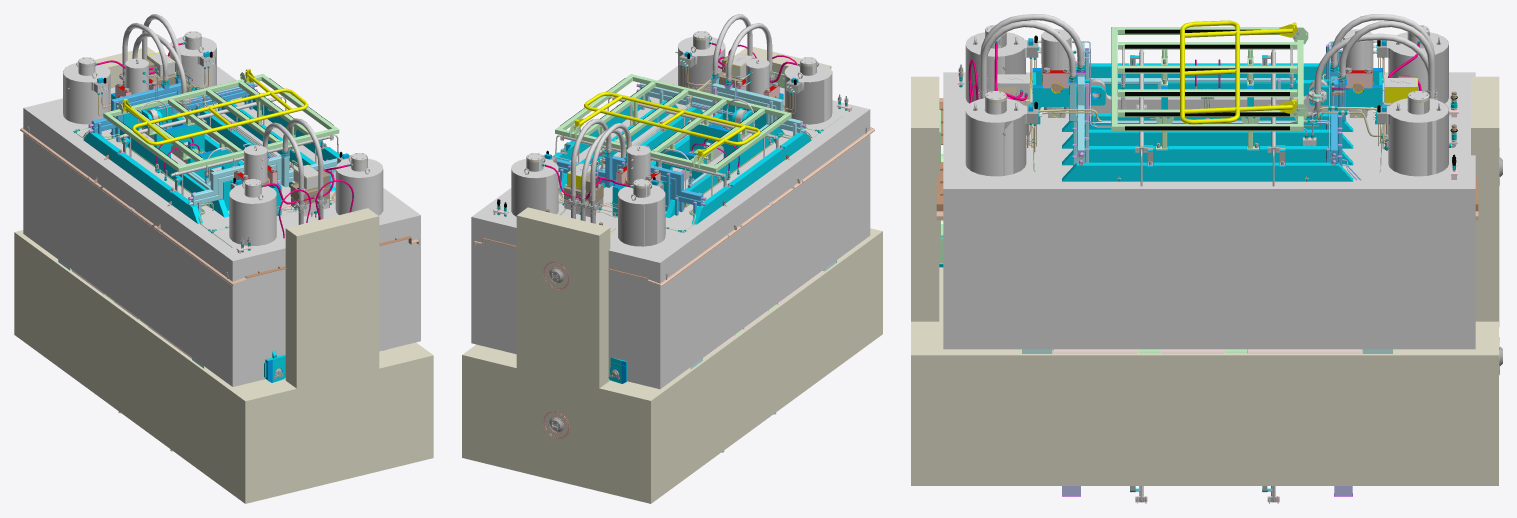
3 renders of one model, left to right at view 1: azimuth 30°, elevation 25°; view 2: azimuth 150°, elevation 25°; view 3: azimuth 270°, elevation 25°, orthographic. The views are drawn at different scales.
Visible parts, largest first — view 1: FIXED_SIDE, LOOSE_SIDE, Model, PRESSURE_CYLINDER_4, PRESSURE_CYLINDER_3, PRESSURE_CYLINDER_1, PRESSURE_CYLINDER_2, LIFTING_CYLINDER_LEFT, LIFTING_CYLINDER_RIGHT; view 2: FIXED_SIDE, LOOSE_SIDE, Model, PRESSURE_CYLINDER_2, PRESSURE_CYLINDER_3, PRESSURE_CYLINDER_4, PRESSURE_CYLINDER_1; view 3: LOOSE_SIDE, FIXED_SIDE, Model, PRESSURE_CYLINDER_1, PRESSURE_CYLINDER_2, PRESSURE_CYLINDER_4, PRESSURE_CYLINDER_3, LIFTING_CYLINDER_LEFT.
Part boxes in pixels (<box>): FIXED_SIDE: <box>14,47,433,503</box>; LOOSE_SIDE: <box>23,66,420,386</box>; Model: <box>20,14,419,451</box>; PRESSURE_CYLINDER_4: <box>229,179,276,245</box>; PRESSURE_CYLINDER_3: <box>63,57,110,124</box>; PRESSURE_CYLINDER_1: <box>336,153,383,215</box>; PRESSURE_CYLINDER_2: <box>169,31,216,90</box>; LIFTING_CYLINDER_LEFT: <box>244,145,267,183</box>; LIFTING_CYLINDER_RIGHT: <box>125,58,148,94</box>; FIXED_SIDE: <box>462,47,882,503</box>; LOOSE_SIDE: <box>471,66,870,389</box>; Model: <box>474,14,874,452</box>; PRESSURE_CYLINDER_2: <box>511,153,558,214</box>; PRESSURE_CYLINDER_3: <box>618,179,665,246</box>; PRESSURE_CYLINDER_4: <box>784,57,832,121</box>; PRESSURE_CYLINDER_1: <box>678,31,725,75</box>; LOOSE_SIDE: <box>943,72,1475,349</box>; FIXED_SIDE: <box>911,76,1499,485</box>; Model: <box>936,14,1502,503</box>; PRESSURE_CYLINDER_1: <box>965,91,1026,176</box>; PRESSURE_CYLINDER_2: <box>1387,91,1448,176</box>; PRESSURE_CYLINDER_4: <box>965,24,1026,103</box>; PRESSURE_CYLINDER_3: <box>1387,25,1448,91</box>; LIFTING_CYLINDER_LEFT: <box>1037,29,1070,74</box>.
Bounding box in the file's own units: 2.55 × 4.48 × 5.38.
